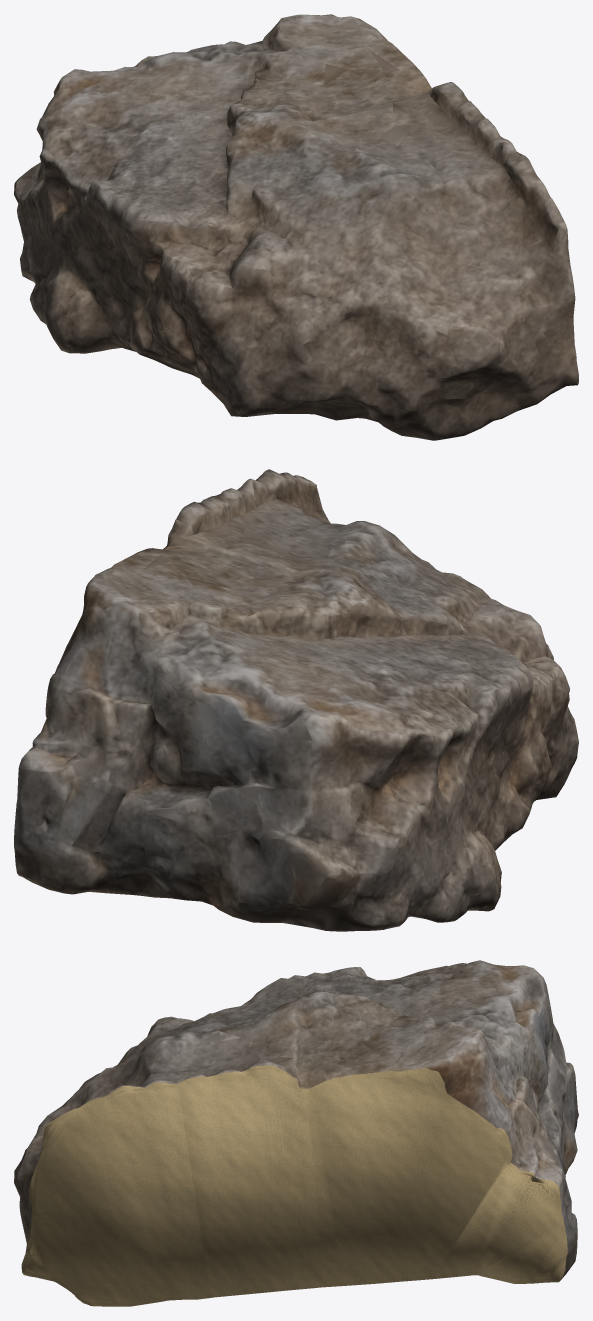
File: shellstone-v1-last-lod0.gltf
The picture shows the model from 3 angles, top to bottom: view 1: azimuth 30°, elevation 25°; view 2: azimuth 150°, elevation 25°; view 3: azimuth 270°, elevation 25°; orthographic projection. The views are drawn at different scales.
Parts seen in each view (by area): view 1: shellstone-v1-last-lod0; view 2: shellstone-v1-last-lod0; view 3: shellstone-v1-last-lod0.
Part boxes in pixels (x1,y1,x2,y2): shellstone-v1-last-lod0: (14, 14, 578, 440); shellstone-v1-last-lod0: (14, 469, 578, 931); shellstone-v1-last-lod0: (14, 960, 578, 1306).
Bounding box in the file's own units: 0.6903 × 0.4928 × 1.
Materials: 2 (2 with a texture image).
